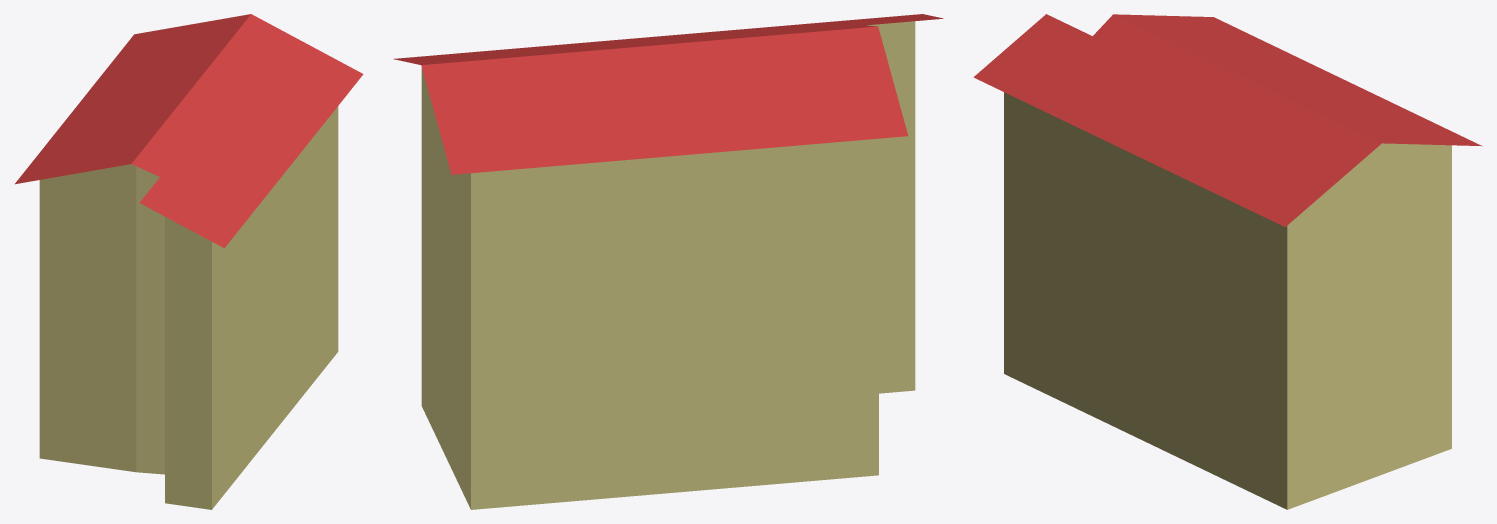
3 views of the same model, side by side, from view 1: azimuth 30°, elevation 25°; view 2: azimuth 150°, elevation 25°; view 3: azimuth 270°, elevation 25° (orthographic). The views are drawn at different scales.
Visible parts, largest first — view 1: group_5, group_3, group_4; view 2: group_5, group_3; view 3: group_5, group_3, group_4.
Part boxes in pixels (box(x1,y1,x2,y2)): group_5: box(39, 106, 338, 509); group_3: box(15, 14, 363, 247); group_4: box(140, 14, 274, 247); group_5: box(421, 21, 915, 509); group_3: box(393, 14, 921, 174); group_5: box(1004, 92, 1451, 509); group_3: box(973, 14, 1482, 226); group_4: box(974, 14, 1381, 158).
Size of the model in its own units: 16.56 by 17.6 by 13.1.
